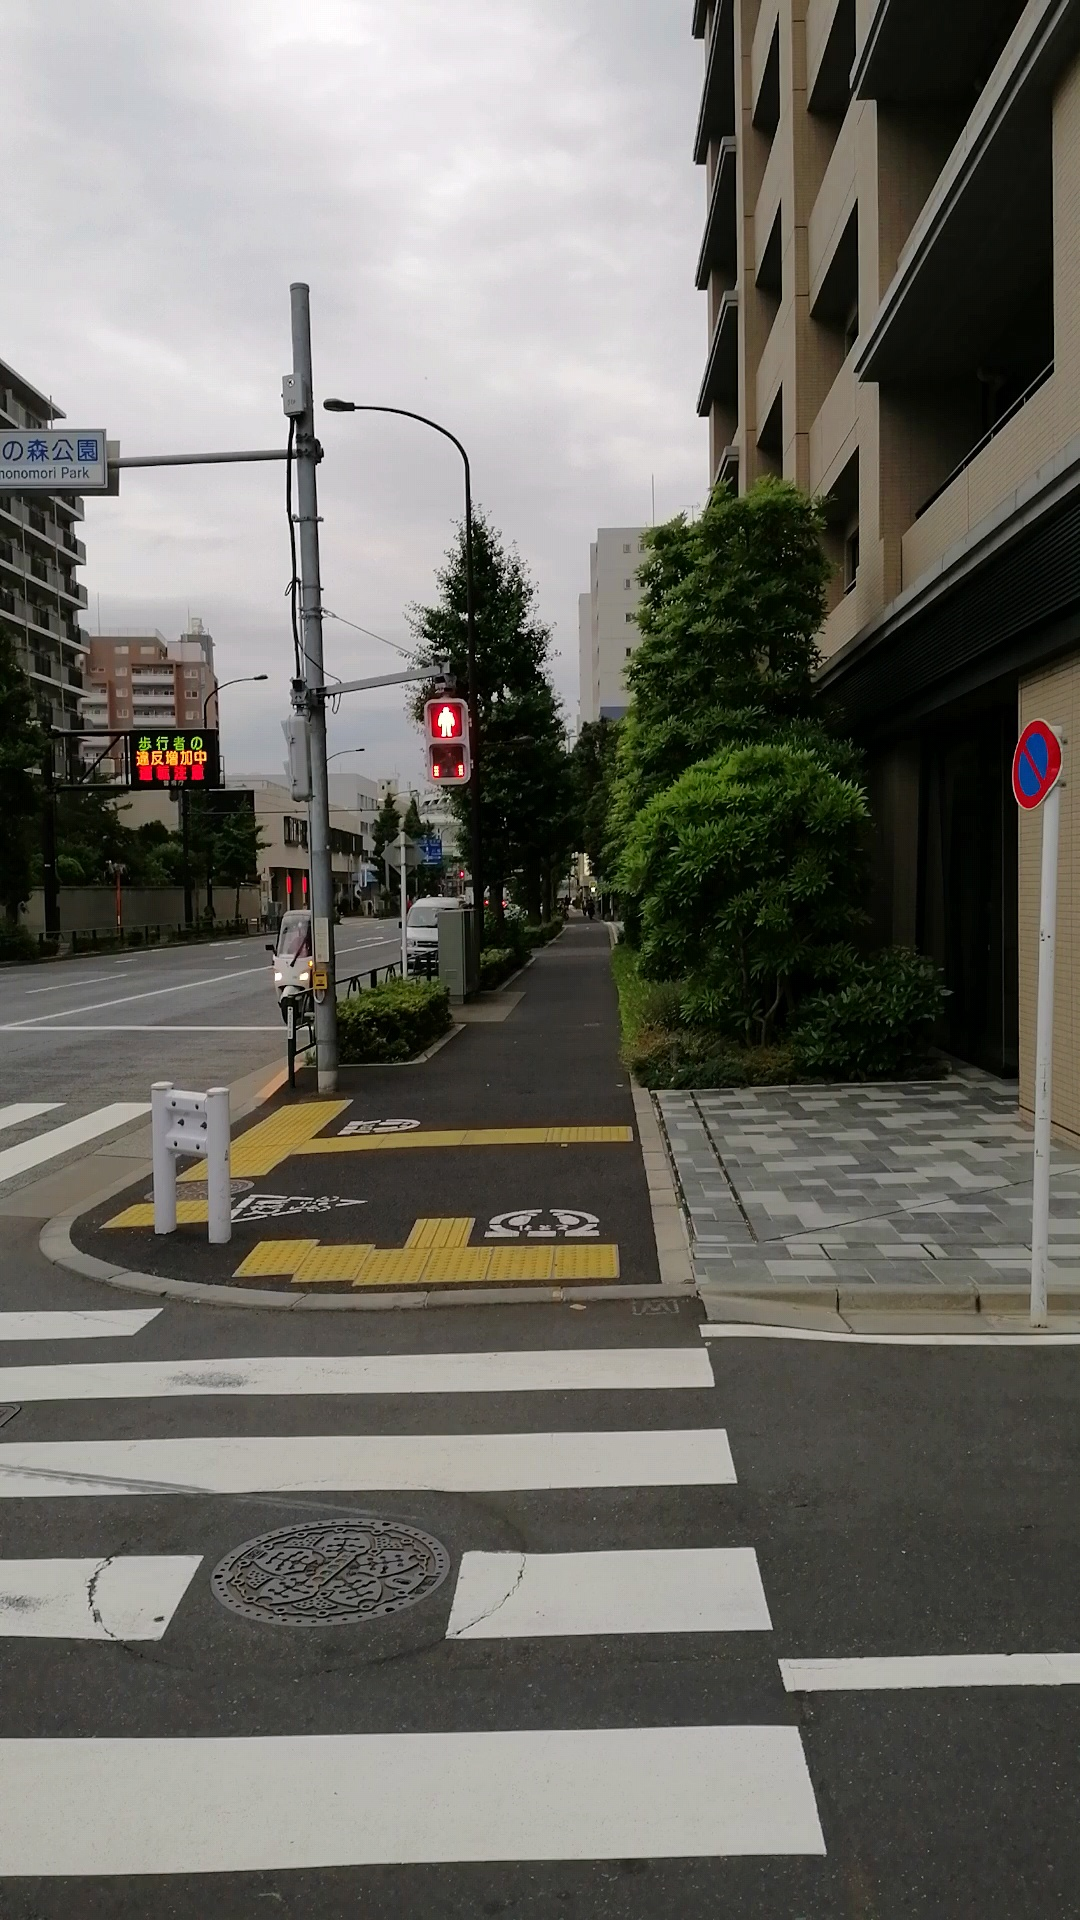red: (425, 700, 469, 785)
